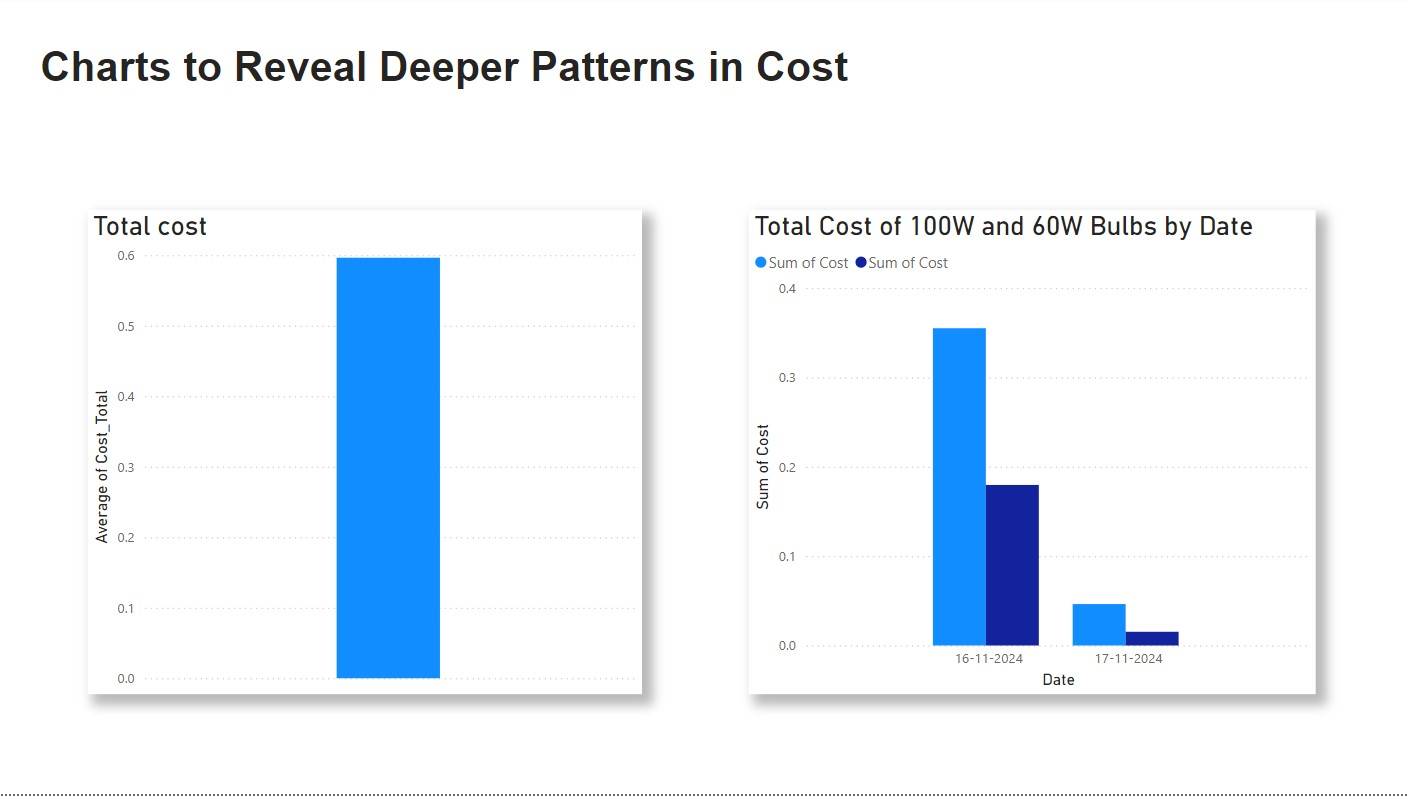

What the dashboard file says about the page in this screenshot:
{"tool":"powerbi","page":{"name":"Page 6","canvas":[1280,720],"ordinal":5},"visuals":[{"type":"lineClusteredColumnComboChart","title":"Total Cost of 100W and 60W Bulbs by Date","fields":{"Category":["100w_Table.Date"],"Y":["Sum(100w_Table.Cost)","Sum(60w_Table.Cost)"]},"box":[684,192.2,511.5,436.7],"z":0},{"type":"textbox","box":[41,36.7,751.8,65],"z":1000},{"type":"clusteredColumnChart","title":"Total cost ","fields":{"Y":["Avg(TOTAL.Cost_Total)"]},"box":[87.6,192.2,500.2,436.7],"z":2000}]}

Visuals, with their boxes in screenshot pixels (x1, y1, x2, y2), scaled from the page's 1280x720 canvas onto the 1409x803 screenshot:
"Total Cost of 100W and 60W Bulbs by Date" lineClusteredColumnComboChart: region(753, 214, 1316, 701)
textbox: region(45, 41, 873, 113)
"Total cost " clusteredColumnChart: region(96, 214, 647, 701)
